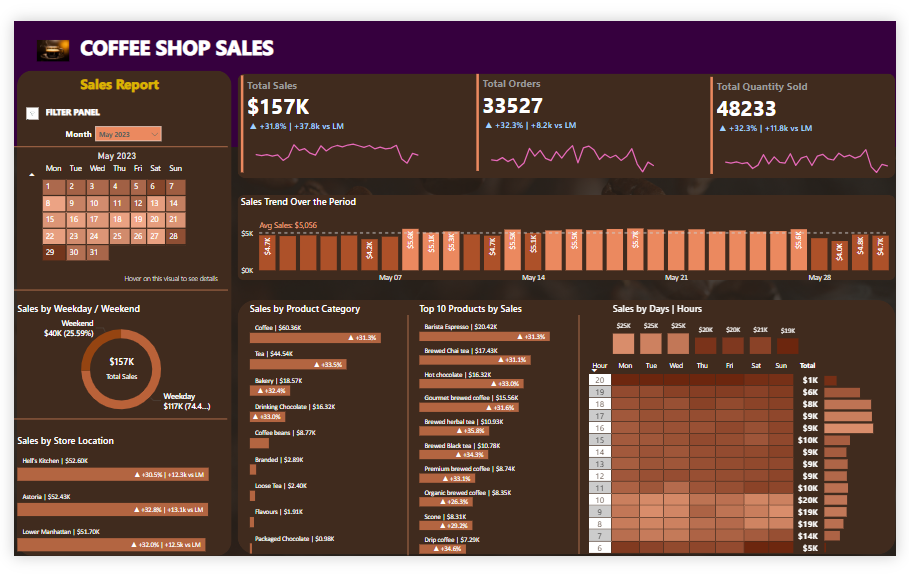

Layout of this report page (visuals, bound fields, positions):
{"tool":"powerbi","page":{"name":"Page 1","canvas":[1400,850],"ordinal":0},"visuals":[{"type":"shape","box":[0,0,1400,200],"z":0},{"type":"shape","box":[5.6,79.6,340.7,770.4],"z":1000},{"type":"shape","box":[355.9,82.4,1044.1,166.2],"z":2000},{"type":"textbox","box":[100,13.3,325,68.3],"z":3000},{"type":"slicer","fields":{"Values":["Data Table.Month Year"]},"box":[124.1,161.1,114.8,38.9],"z":4000},{"type":"cardVisual","fields":{"Data":["Transactions.Total Orders"]},"box":[727.9,78.9,300,164.7],"z":5000,"group":"g2"},{"type":"group","id":"g1","title":"Group 1","box":[355.9,80.9,300,166.2],"z":5000},{"type":"cardVisual","fields":{"Data":["Transactions.Total Sales"]},"box":[355.9,80.9,300,164.7],"z":5000,"group":"g1"},{"type":"cardVisual","fields":{"Data":["Transactions.Total Quantity Sold"]},"box":[1100,82.5,300,164.7],"z":5000,"group":"g3"},{"type":"group","id":"g2","title":"Group 1","box":[727.9,78.9,300.1,166.2],"z":6000},{"type":"lineChart","fields":{"Category":["Data Table.Date.Variation.Date Hierarchy.Year","Data Table.Date.Variation.Date Hierarchy.Quarter","Data Table.Date.Variation.Date Hierarchy.Month","Data Table.Date.Variation.Date Hierarchy.Day"],"Y":["Transactions.Total Orders"]},"box":[741.3,153.9,286.8,91.2],"z":6000,"group":"g2"},{"type":"lineChart","fields":{"Category":["Data Table.Date.Variation.Date Hierarchy.Year","Data Table.Date.Variation.Date Hierarchy.Quarter","Data Table.Date.Variation.Date Hierarchy.Month","Data Table.Date.Variation.Date Hierarchy.Day"],"Y":["Transactions.Total Sales"]},"box":[369.1,155.9,286.8,91.2],"z":6000,"group":"g1"},{"type":"lineChart","fields":{"Category":["Data Table.Date.Variation.Date Hierarchy.Year","Data Table.Date.Variation.Date Hierarchy.Quarter","Data Table.Date.Variation.Date Hierarchy.Month","Data Table.Date.Variation.Date Hierarchy.Day"],"Y":["Transactions.Total Quantity Sold"]},"box":[1113.2,157.5,286.8,91.2],"z":6000,"group":"g3"},{"type":"group","id":"g3","title":"Group 1","box":[1100,82.5,300,166.2],"z":7000},{"type":"pivotTable","fields":{"Rows":["Data Table.Week Number"],"Columns":["Data Table.Day Name"],"Values":["Min(Data Table.Day Number)"]},"box":[14.3,217.9,325,207.1],"z":8000},{"type":"card","fields":{"Values":["Min(Data Table.Month Year)"]},"box":[75.4,200,173.7,29.8],"z":9000},{"type":"card","fields":{"Values":["Transactions.Foot Note"]},"box":[130.4,398.2,235.7,26.8],"z":10000},{"type":"shape","box":[0,183.9,339.3,32.1],"z":11000},{"type":"shape","box":[0,412.5,339.3,30.4],"z":12000},{"type":"donutChart","title":"Sales by Weekday / Weekend","fields":{"Category":["Data Table.Weekday / Weekend"],"Y":["Transactions.Total Sales"]},"box":[0,444.6,339.3,194.6],"z":13000},{"type":"card","fields":{"Values":["Transactions.Total Sales"]},"box":[123.3,521.7,93.3,56.7],"z":14000},{"type":"clusteredBarChart","title":"Sales by Store Location","fields":{"Category":["Transactions.store_location"],"Y":["Transactions.Placeholder","Transactions.Total Sales"]},"box":[0,655.4,339.3,194.6],"z":15000},{"type":"shape","box":[0,616.7,338.3,30],"z":16000},{"type":"shape","box":[355.6,275.9,1044.4,135.2],"z":17000},{"type":"columnChart","title":"Sales Trend Over the Period","fields":{"Category":["Transactions.transaction_date"],"Y":["Transactions.Total Sales"]},"box":[355.6,275.9,1044.4,148.1],"z":18000},{"type":"shape","box":[355.6,442.6,1044.4,403.7],"z":19000},{"type":"clusteredBarChart","title":"Sales by Product Category","fields":{"Y":["Transactions.Placeholder","Transactions.Total Sales"],"Category":["Transactions.product_category"]},"box":[368.5,444.4,246.3,405.6],"z":20000},{"type":"shape","box":[885.2,466.7,22.2,379.6],"z":21000},{"type":"clusteredBarChart","title":"Top 10 Products by Sales","fields":{"Y":["Transactions.Placeholder","Transactions.Total Sales"],"Category":["Transactions.product_type"]},"box":[637,444.4,248.1,405.6],"z":22000},{"type":"shape","box":[614.8,466.7,22.2,381.5],"z":23000},{"type":"pivotTable","fields":{"Rows":["Transactions.Hour"],"Columns":["Data Table.Day Name"],"Values":["Transactions.Total Sales"]},"box":[907.4,533.3,403.7,316.7],"z":24000},{"type":"barChart","fields":{"Category":["Transactions.Hour"],"Y":["Transactions.Total Sales"]},"box":[1281.5,550,88.9,298.1],"z":25000},{"type":"columnChart","title":"Sales by Days | Hours","fields":{"Y":["Transactions.Total Sales"],"Category":["Data Table.Day Name"]},"box":[944.4,444.4,305.6,88.9],"z":26000},{"type":"textbox","box":[75.9,164.8,81.5,38.9],"z":27000},{"type":"textbox","box":[100,79.6,163,40.7],"z":28000},{"type":"textbox","box":[44.4,127.8,103.7,29.6],"z":29000},{"type":"image","box":[14.8,127.8,29.6,37],"z":29001},{"type":"image","box":[30,21.7,61.7,51.7],"z":29002}]}

Visuals, with their boxes on the page's 1400x850 design canvas (x1, y1, x2, y2). These are canvas units, not pixel positions in the 909x574 screenshot, which may show the page scaled, cropped or inside an application window:
shape: crop(0, 0, 1400, 200)
shape: crop(6, 80, 346, 850)
shape: crop(356, 82, 1400, 249)
textbox: crop(100, 13, 425, 82)
slicer - Data Table.Month Year: crop(124, 161, 239, 200)
cardVisual - Transactions.Total Orders: crop(728, 79, 1028, 244)
"Group 1" group: crop(356, 81, 656, 247)
cardVisual - Transactions.Total Sales: crop(356, 81, 656, 246)
cardVisual - Transactions.Total Quantity Sold: crop(1100, 82, 1400, 247)
"Group 1" group: crop(728, 79, 1028, 245)
lineChart - Data Table.Date.Variation.Date Hierarchy.Year x Data Table.Date.Variation.Date Hierarchy.Quarter: crop(741, 154, 1028, 245)
lineChart - Data Table.Date.Variation.Date Hierarchy.Year x Data Table.Date.Variation.Date Hierarchy.Quarter: crop(369, 156, 656, 247)
lineChart - Data Table.Date.Variation.Date Hierarchy.Year x Data Table.Date.Variation.Date Hierarchy.Quarter: crop(1113, 158, 1400, 249)
"Group 1" group: crop(1100, 82, 1400, 249)
pivotTable - Data Table.Week Number x Data Table.Day Name: crop(14, 218, 339, 425)
card - Min(Data Table.Month Year): crop(75, 200, 249, 230)
card - Transactions.Foot Note: crop(130, 398, 366, 425)
shape: crop(0, 184, 339, 216)
shape: crop(0, 412, 339, 443)
"Sales by Weekday / Weekend" donutChart: crop(0, 445, 339, 639)
card - Transactions.Total Sales: crop(123, 522, 217, 578)
"Sales by Store Location" clusteredBarChart: crop(0, 655, 339, 850)
shape: crop(0, 617, 338, 647)
shape: crop(356, 276, 1400, 411)
"Sales Trend Over the Period" columnChart: crop(356, 276, 1400, 424)
shape: crop(356, 443, 1400, 846)
"Sales by Product Category" clusteredBarChart: crop(368, 444, 615, 850)
shape: crop(885, 467, 907, 846)
"Top 10 Products by Sales" clusteredBarChart: crop(637, 444, 885, 850)
shape: crop(615, 467, 637, 848)
pivotTable - Transactions.Hour x Data Table.Day Name: crop(907, 533, 1311, 850)
barChart - Transactions.Hour x Transactions.Total Sales: crop(1282, 550, 1370, 848)
"Sales by Days | Hours" columnChart: crop(944, 444, 1250, 533)
textbox: crop(76, 165, 157, 204)
textbox: crop(100, 80, 263, 120)
textbox: crop(44, 128, 148, 157)
image: crop(15, 128, 44, 165)
image: crop(30, 22, 92, 73)
